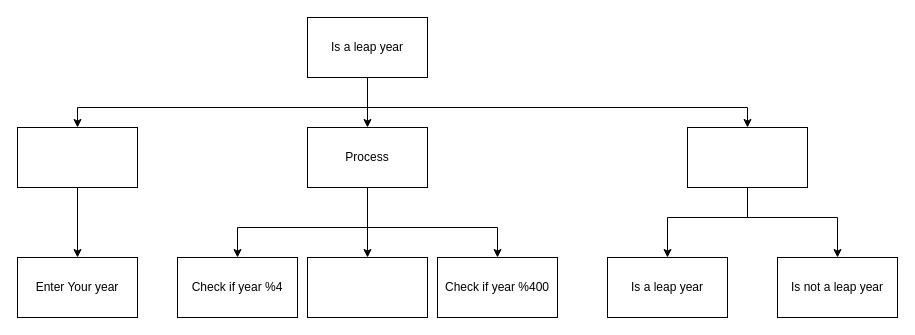
Some shapes in this 915 by 335 pixel diagram are drawn without their labels. Each missing label, with the box of its shape:
Check if year %100: (306, 256, 428, 318)
Input: (16, 126, 138, 188)
Output: (686, 126, 808, 188)
